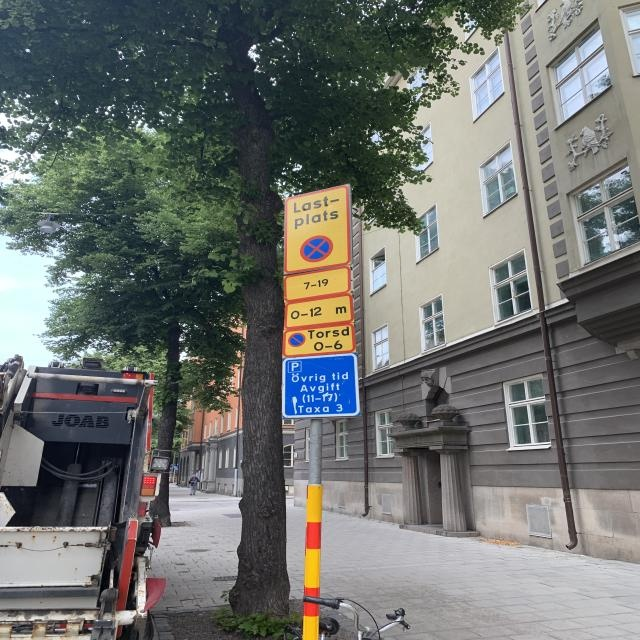lastplats: (280, 182, 350, 272)
